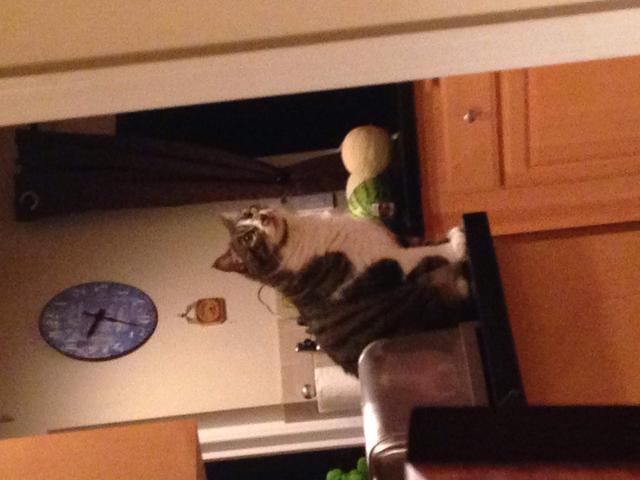playdoh: (212, 201, 469, 383)
